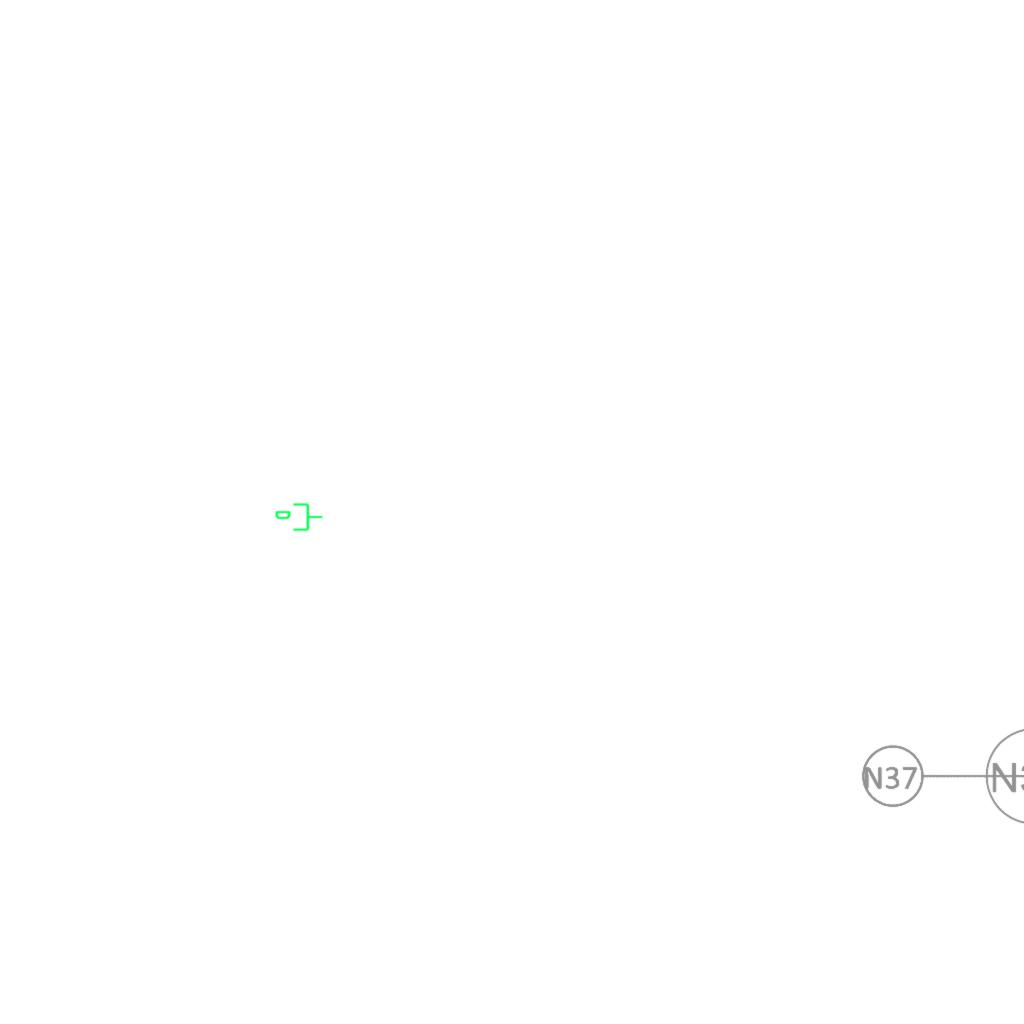Datenanschluss_einfach: (274, 501, 324, 535)
